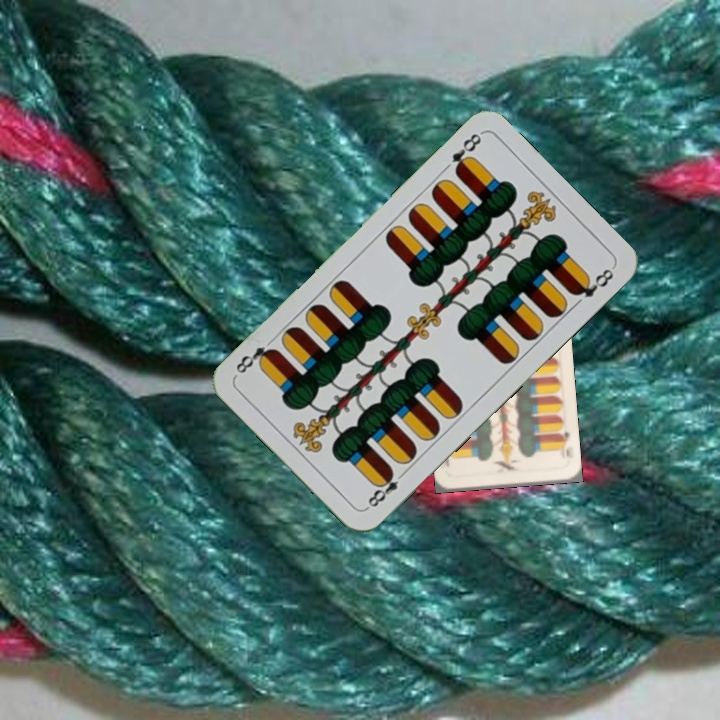E10: (555, 428, 572, 461)
E8: (362, 466, 410, 512), (447, 129, 484, 178)
